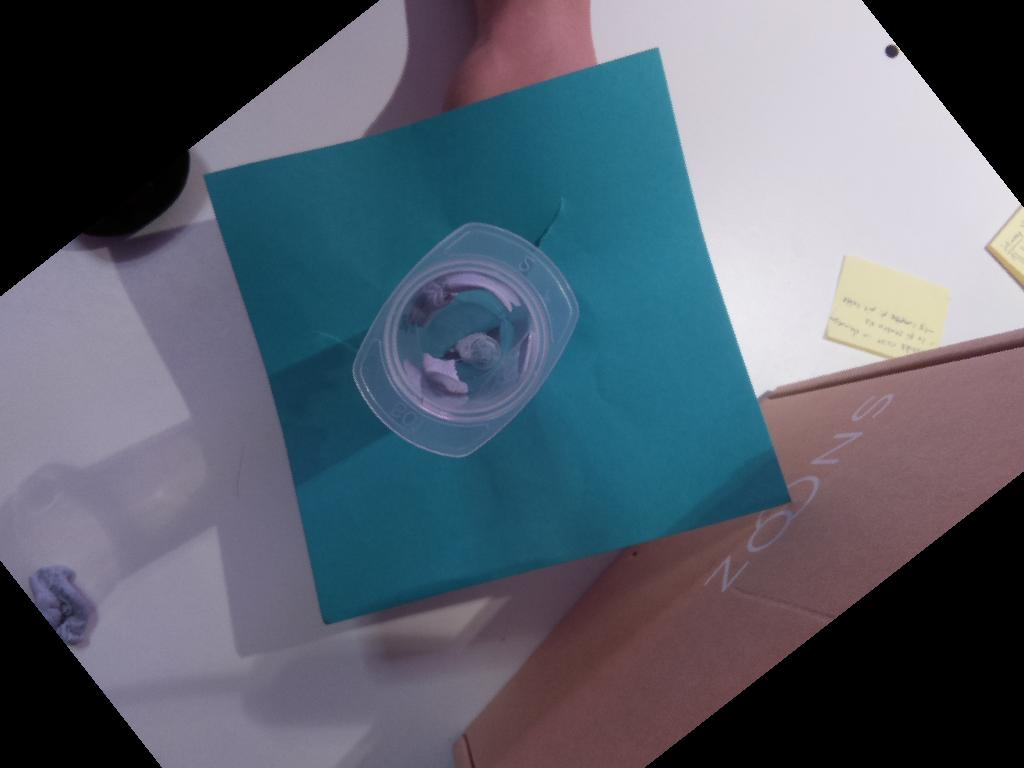dirty: (350, 222, 579, 459)
